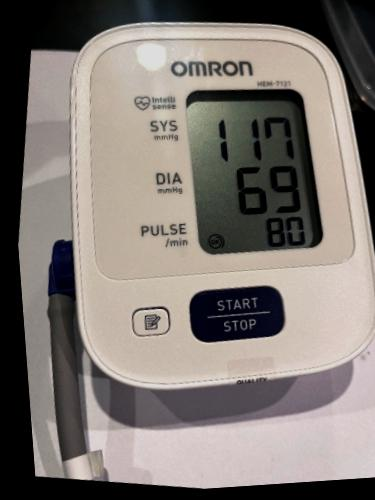bpm: (177, 72, 330, 261)
